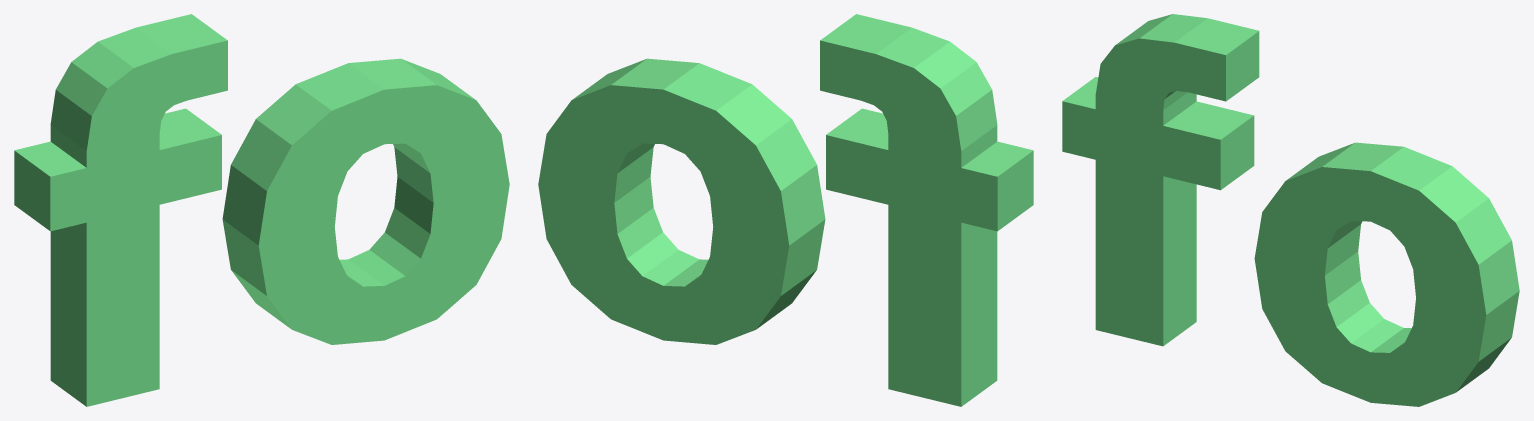
File: suku_kecil_fo.glb
3 views of the same model, side by side, from view 1: azimuth 30°, elevation 25°; view 2: azimuth 150°, elevation 25°; view 3: azimuth 330°, elevation 25° (orthographic). The views are drawn at different scales.
Visible parts, largest first — view 1: geometry_0; view 2: geometry_0; view 3: geometry_0.
Part boxes in pixels (left/top/right/bottom): geometry_0: left=14, top=14, right=509, bottom=406; geometry_0: left=538, top=14, right=1033, bottom=406; geometry_0: left=1062, top=14, right=1519, bottom=406.
Bounding box in the file's own units: 11 × 7.74 × 1.5.
